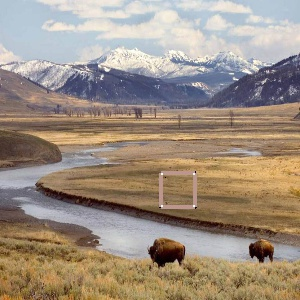square: (158, 170, 197, 210)
